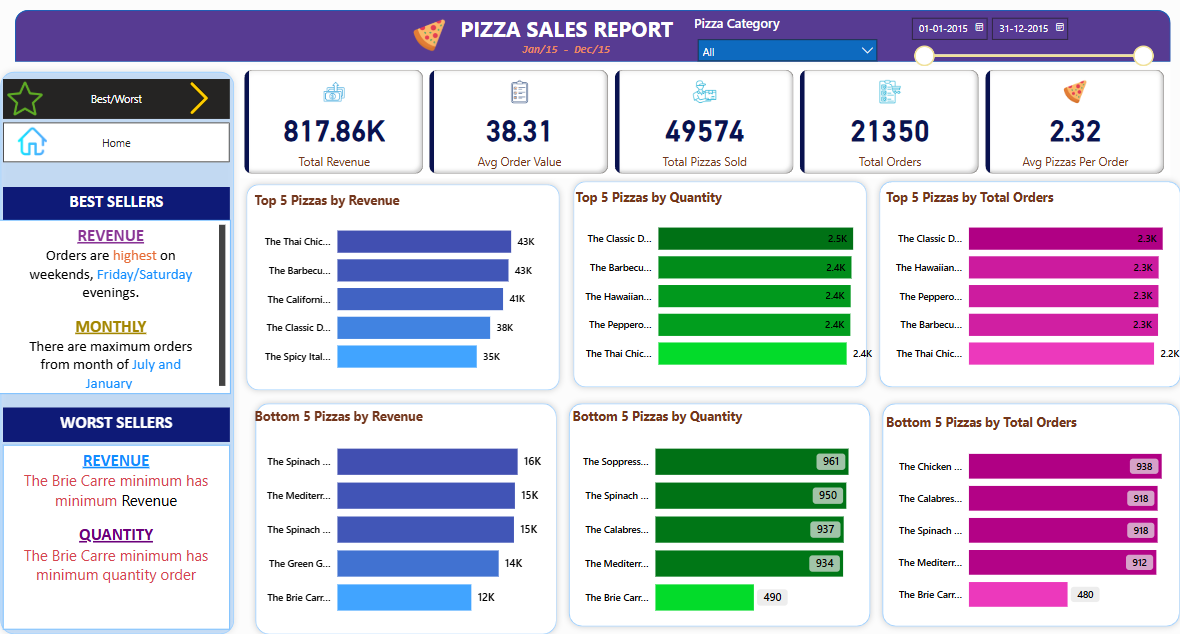

The page's visual inventory and layout, read from the dashboard file:
{"tool":"powerbi","page":{"name":"Best/Worst","canvas":[1500,820],"ordinal":1},"visuals":[{"type":"shape","box":[0,85,310,723.3],"z":0},{"type":"cardVisual","fields":{"Data":["pizza_sales.Total Revenue","pizza_sales.Avg Order Value","pizza_sales.Total Pizzas Sold","pizza_sales.Total Orders","pizza_sales.Avg Pizzas Per Order"]},"box":[310,85,1170,141.7],"z":1000},{"type":"shape","box":[26.7,15,1453.3,65],"z":2000},{"type":"textbox","box":[575,15,290,56.7],"z":3000},{"type":"textbox","box":[600,48.3,238.3,36.7],"z":4000},{"type":"image","box":[518.3,20,56.7,51.7],"z":5000},{"type":"shape","box":[310,226.7,410,275],"z":6000},{"type":"textbox","box":[11.7,238.3,285,41.7],"z":7000},{"type":"textbox","box":[5,280,291.7,218.3],"z":8000},{"type":"textbox","box":[11.7,561.7,285,231.7],"z":9000},{"type":"textbox","box":[11.7,515,285,43.3],"z":10000},{"type":"slicer","title":"Pizza Category","fields":{"Values":["pizza_sales.pizza_category"]},"box":[875,20,245,65],"z":11000},{"type":"slicer","title":"Pizza Category","fields":{"Values":["pizza_sales.order_date"]},"box":[1141.7,15,325,86.7],"z":12000},{"type":"shape","box":[720,223.3,385,275],"z":13000},{"type":"shape","box":[1105,223.3,395,275],"z":14000},{"type":"shape","box":[320,501.7,395,306.7],"z":15000},{"type":"shape","box":[715,501.7,395,296.7],"z":16000},{"type":"shape","box":[1110,501.7,390,296.7],"z":17000},{"type":"barChart","title":"Top 5 Pizzas by Revenue","fields":{"Category":["pizza_sales.pizza_name"],"Y":["pizza_sales.Total Revenue"]},"box":[323.3,243.3,383.3,241.7],"z":18000},{"type":"barChart","title":"Bottom 5 Pizzas by Revenue","fields":{"Category":["pizza_sales.pizza_name"],"Y":["pizza_sales.Total Revenue"]},"box":[323.3,515,383.3,278.3],"z":19000},{"type":"barChart","title":"Top 5 Pizzas by Quantity","fields":{"Category":["pizza_sales.pizza_name"],"Y":["pizza_sales.Total Pizzas Sold"]},"box":[726.7,240,383.3,241.7],"z":20000},{"type":"barChart","title":"Bottom 5 Pizzas by Quantity","fields":{"Category":["pizza_sales.pizza_name"],"Y":["pizza_sales.Total Pizzas Sold"]},"box":[721.7,515,383.3,278.3],"z":21000},{"type":"barChart","title":"Top 5 Pizzas by Total Orders","fields":{"Category":["pizza_sales.pizza_name"],"Y":["pizza_sales.Total Orders"]},"box":[1116.7,240,383.3,241.7],"z":22000},{"type":"barChart","title":"Bottom 5 Pizzas by Total Orders","fields":{"Category":["pizza_sales.pizza_name"],"Y":["pizza_sales.Total Orders"]},"box":[1116.7,521.7,383.3,265],"z":23000},{"type":"pageNavigator","box":[11.7,101.7,285,50],"z":24000},{"type":"pageNavigator","box":[11.7,156.7,285,50],"z":25000},{"type":"image","box":[221.7,100,75,51.7],"z":26000},{"type":"image","box":[11.7,156.7,73.3,46.7],"z":27000},{"type":"image","box":[11.7,98.3,55,56.7],"z":28000}]}

Visuals, with their boxes in screenshot pixels (x1, y1, x2, y2), scaled from the page's 1500x820 canvas onto the 1180x634 screenshot:
shape: (0,66,244,625)
cardVisual - pizza_sales.Total Revenue x pizza_sales.Avg Order Value: (244,66,1164,175)
shape: (21,12,1164,62)
textbox: (452,12,680,55)
textbox: (472,37,659,66)
image: (408,15,452,55)
shape: (244,175,566,388)
textbox: (9,184,233,216)
textbox: (4,216,233,385)
textbox: (9,434,233,613)
textbox: (9,398,233,432)
"Pizza Category" slicer: (688,15,881,66)
"Pizza Category" slicer: (898,12,1154,79)
shape: (566,173,869,385)
shape: (869,173,1179,385)
shape: (252,388,562,625)
shape: (562,388,873,617)
shape: (873,388,1179,617)
"Top 5 Pizzas by Revenue" barChart: (254,188,556,375)
"Bottom 5 Pizzas by Revenue" barChart: (254,398,556,613)
"Top 5 Pizzas by Quantity" barChart: (572,186,873,372)
"Bottom 5 Pizzas by Quantity" barChart: (568,398,869,613)
"Top 5 Pizzas by Total Orders" barChart: (878,186,1179,372)
"Bottom 5 Pizzas by Total Orders" barChart: (878,403,1179,608)
pageNavigator: (9,79,233,117)
pageNavigator: (9,121,233,160)
image: (174,77,233,117)
image: (9,121,67,157)
image: (9,76,52,120)
